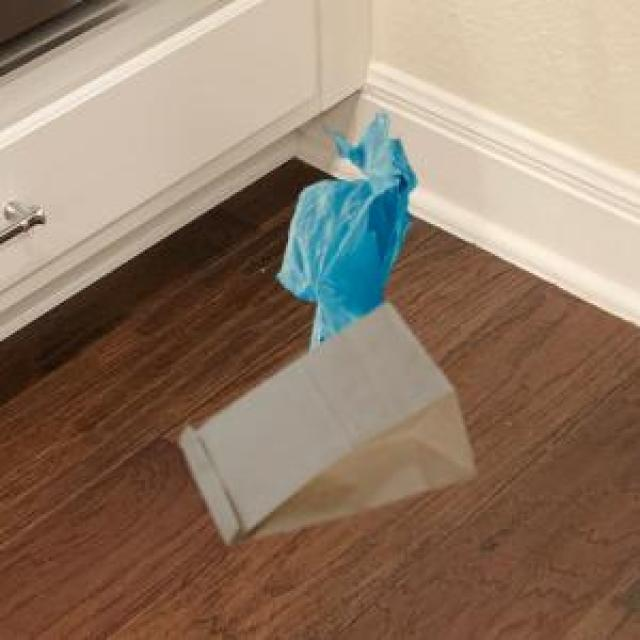paper: (177, 299, 472, 540)
